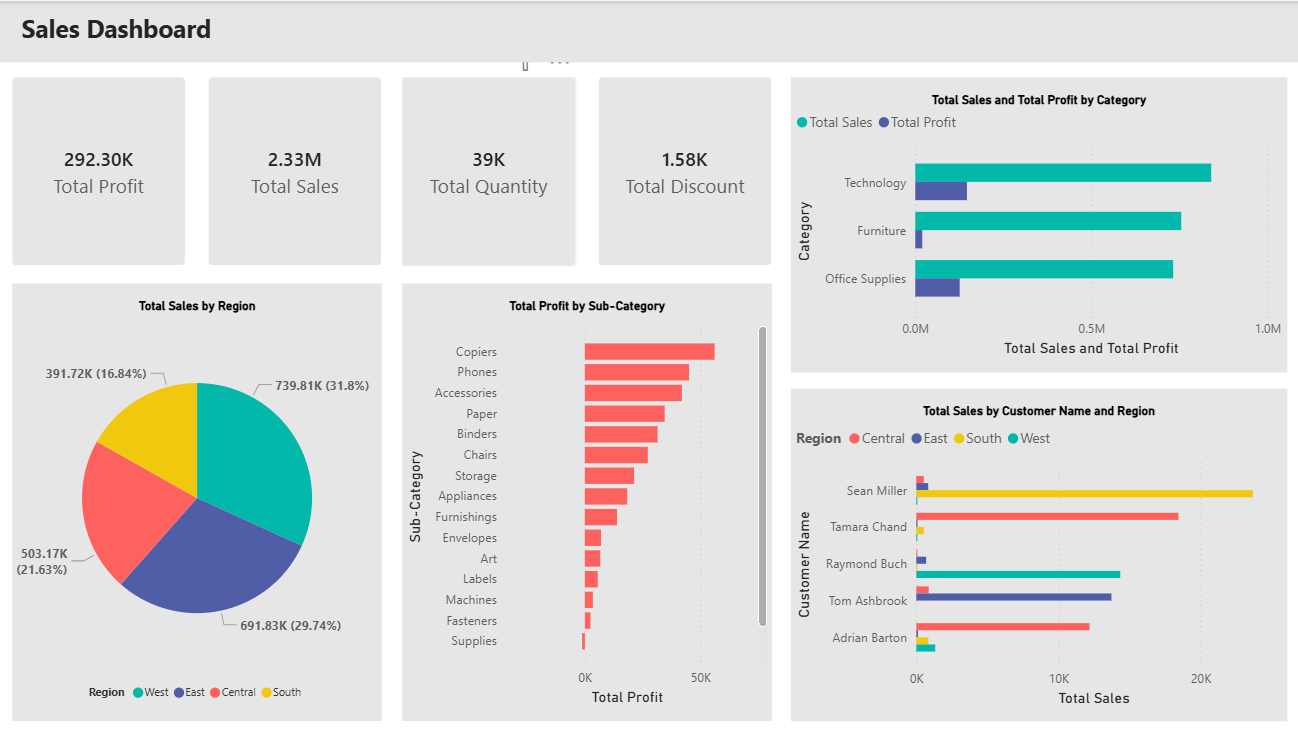

What the dashboard file says about the page in this screenshot:
{"tool":"powerbi","page":{"name":"Page 1","canvas":[1280,720],"ordinal":0},"visuals":[{"type":"cardVisual","fields":{"Data":["Date Table.Total Profit"]},"box":[15.9,74.6,170,184.6],"z":0},{"type":"cardVisual","fields":{"Data":["Date Table.Total Sales"]},"box":[207.9,74.6,170,184.6],"z":1000},{"type":"cardVisual","fields":{"Data":["Date Table.Total Quantity"]},"box":[397.4,74.6,170,184.6],"z":2000},{"type":"cardVisual","fields":{"Data":["Date Table.Total Discount"]},"box":[589.4,74.6,170,184.6],"z":3000},{"type":"pieChart","fields":{"Category":["Orders.Region"],"Y":["Date Table.Total Sales"]},"box":[15.9,276.4,362,428],"z":4000},{"type":"clusteredBarChart","fields":{"Category":["Orders.Sub-Category"],"Y":["Date Table.Total Profit"]},"box":[397,276.4,362,428],"z":5000},{"type":"clusteredBarChart","fields":{"Category":["Orders.Customer Name"],"Y":["Date Table.Total Sales"],"Series":["Orders.Region"]},"box":[777.7,379.1,485.5,325.3],"z":6000},{"type":"clusteredBarChart","fields":{"Category":["Orders.Category"],"Y":["Date Table.Total Sales","Date Table.Total Profit"]},"box":[777.7,74.6,485.5,288.6],"z":7000},{"type":"textbox","box":[0,0,1280.3,60],"z":8000}]}

Visuals, with their boxes in screenshot pixels (x1, y1, x2, y2), scaled from the page's 1280x720 canvas onto the 1298x732 screenshot:
cardVisual - Date Table.Total Profit: [left=16, top=76, right=189, bottom=264]
cardVisual - Date Table.Total Sales: [left=211, top=76, right=383, bottom=264]
cardVisual - Date Table.Total Quantity: [left=403, top=76, right=575, bottom=264]
cardVisual - Date Table.Total Discount: [left=598, top=76, right=770, bottom=264]
pieChart - Orders.Region x Date Table.Total Sales: [left=16, top=281, right=383, bottom=716]
clusteredBarChart - Orders.Sub-Category x Date Table.Total Profit: [left=403, top=281, right=770, bottom=716]
clusteredBarChart - Orders.Customer Name x Date Table.Total Sales: [left=789, top=385, right=1281, bottom=716]
clusteredBarChart - Orders.Category x Date Table.Total Sales: [left=789, top=76, right=1281, bottom=369]
textbox: [left=0, top=0, right=1297, bottom=61]
